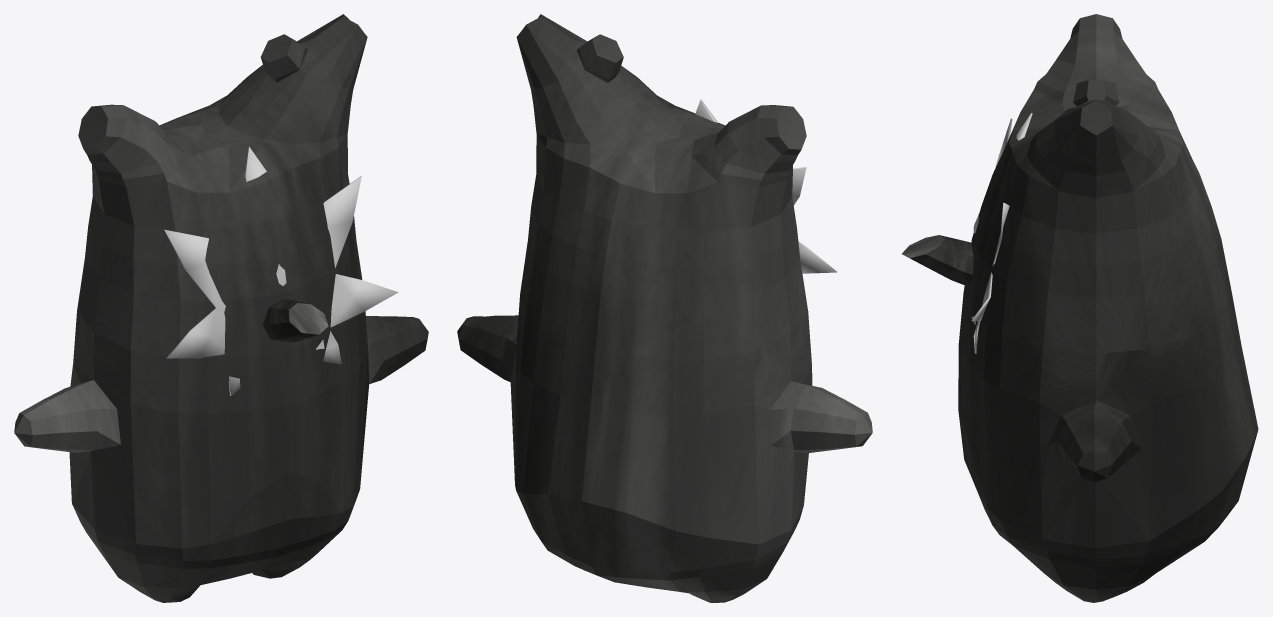
Rendered from frame_0016.obj.
3 views of the same model, side by side, from view 1: azimuth 30°, elevation 25°; view 2: azimuth 150°, elevation 25°; view 3: azimuth 270°, elevation 25° (orthographic).
Parts seen in each view (by area): view 1: korok, leaf, nose.003_柱体.011; view 2: korok, leaf; view 3: korok, nose.003_柱体.011, leaf.
Part boxes in pixels (box(x1,y1,x2,y2)): korok: box(14, 14, 428, 602); leaf: box(164, 147, 398, 395); nose.003_柱体.011: box(262, 299, 328, 342); korok: box(457, 14, 872, 602); leaf: box(695, 99, 836, 273); korok: box(958, 14, 1258, 602); nose.003_柱体.011: box(902, 235, 973, 286); leaf: box(971, 113, 1032, 353).
Size of the model in its own units: 1.88 by 2.35 by 1.42.
